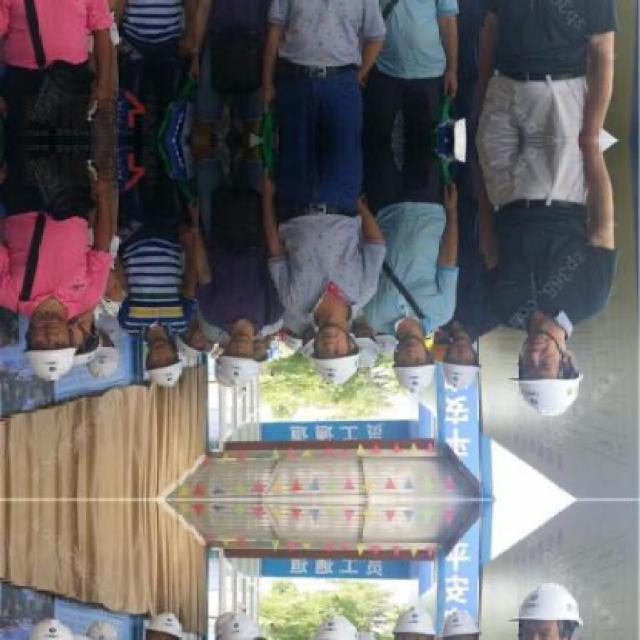con casco: (494, 322, 582, 429), (4, 311, 85, 375), (123, 312, 195, 383), (377, 342, 460, 401), (306, 313, 358, 391), (224, 333, 280, 402), (426, 343, 493, 396)
